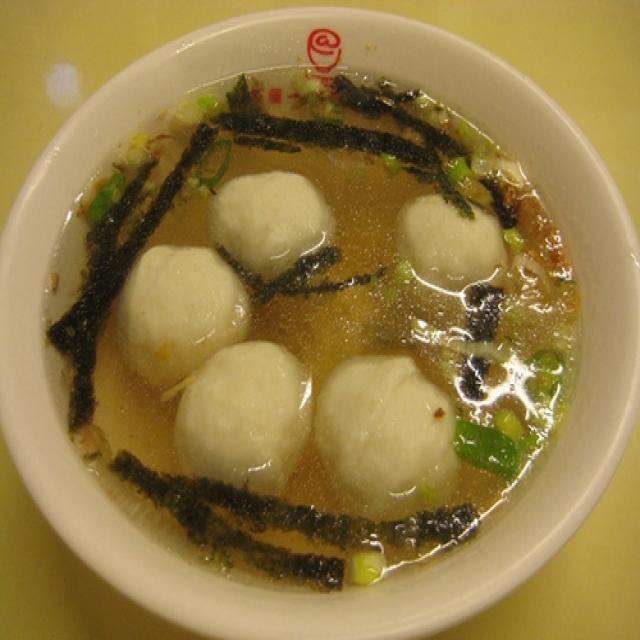熟制海鲜: (115, 138, 534, 541)
